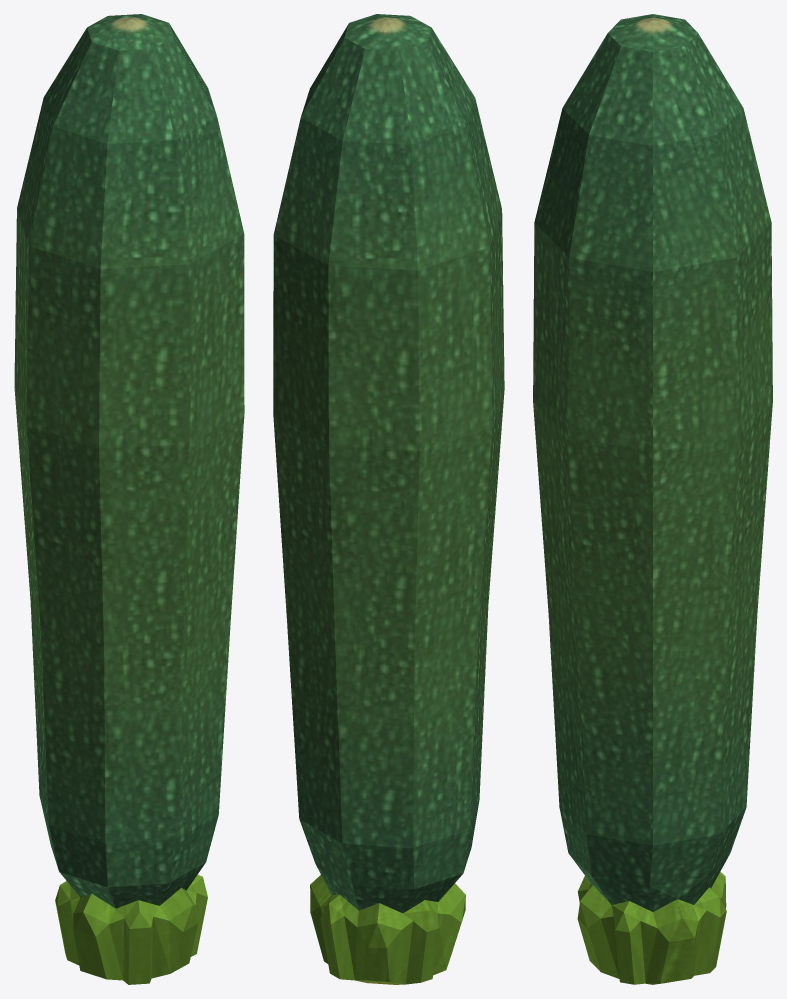
Rendered from zucchini.obj.
3 views of the same model, side by side, from view 1: azimuth 30°, elevation 25°; view 2: azimuth 150°, elevation 25°; view 3: azimuth 270°, elevation 25° (orthographic).
Visible parts, largest first — view 1: blank; view 2: blank; view 3: blank.
Part boxes in pixels (x1,y1,x2,y2): blank: (14,14,244,984); blank: (273,14,504,984); blank: (533,14,772,984).
Bounding box in the file's own units: 0.4564 × 2 × 0.4594.
Materials: 1 (1 with a texture image).
